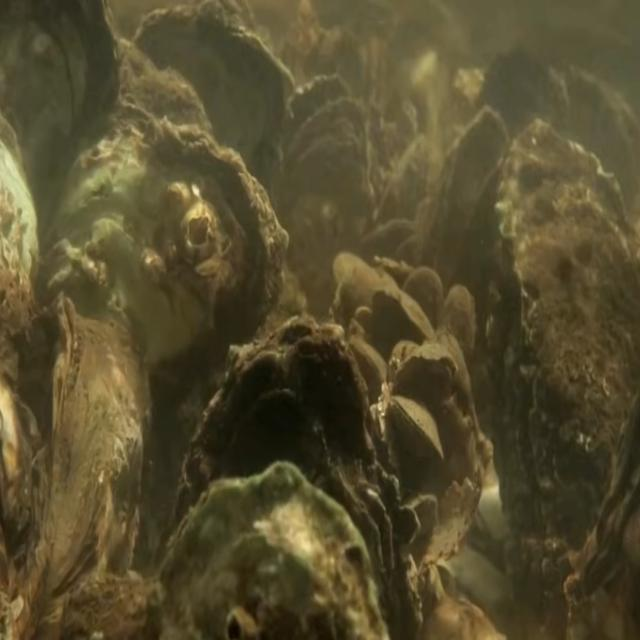Oyster-Closed: (56, 114, 290, 528), (181, 313, 421, 640), (485, 118, 640, 560), (151, 459, 390, 640), (389, 396, 443, 460), (395, 352, 459, 399)
Oyster-Indeterminate: (22, 290, 151, 640), (428, 103, 513, 334), (372, 285, 434, 339), (404, 265, 444, 337), (442, 284, 476, 359)
Oyster-Open: (271, 74, 367, 286)
